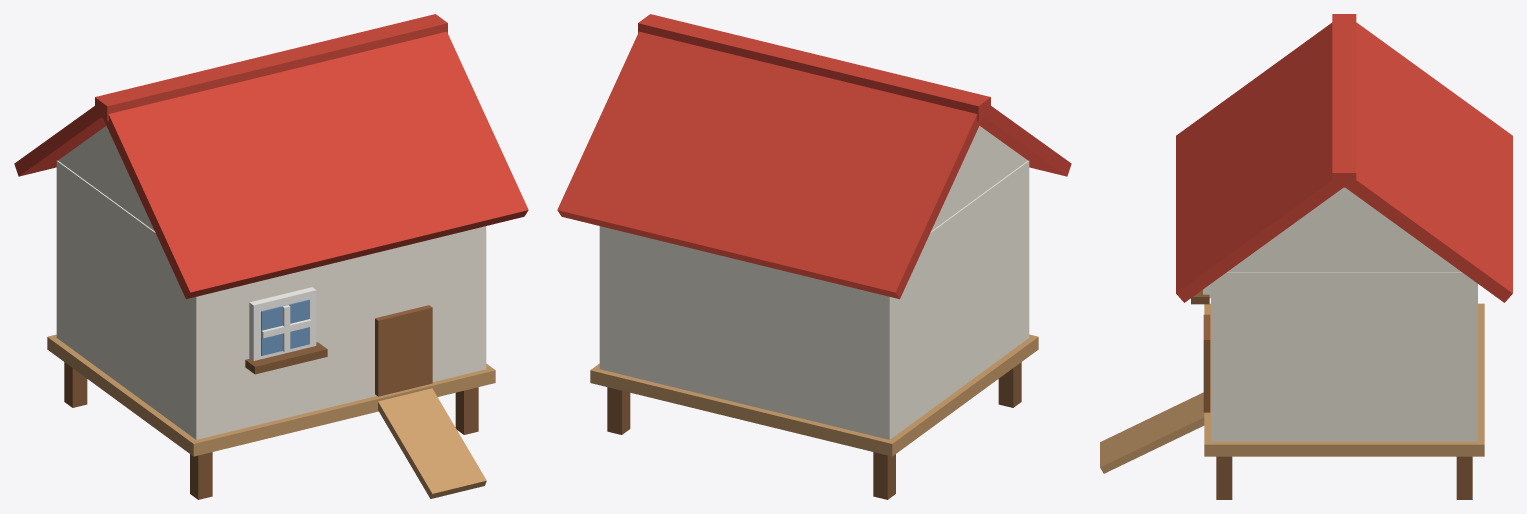
File: coop.obj
3 views of the same model, side by side, from view 1: azimuth 30°, elevation 25°; view 2: azimuth 150°, elevation 25°; view 3: azimuth 270°, elevation 25° (orthographic). The views are drawn at different scales.
Parts seen in each view (by area): view 1: walls, roof, glow; view 2: roof, walls; view 3: walls, roof.
Part boxes in pixels (x1=…): walls: x1=47, y1=126, x2=495, y2=499; roof: x1=14, y1=14, x2=528, y2=299; glow: x1=261, y1=299, x2=309, y2=355; roof: x1=557, y1=14, x2=1071, y2=299; walls: x1=590, y1=126, x2=1038, y2=499; walls: x1=1100, y1=187, x2=1484, y2=499; roof: x1=1176, y1=14, x2=1512, y2=302.
Bounding box in the file's own units: 2.82 × 2.82 × 3.09.
